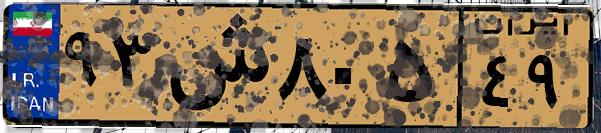0: (330, 28, 385, 110)
3: (110, 28, 158, 98)
4: (475, 38, 525, 113)
5: (385, 28, 445, 110)
8: (270, 28, 330, 110)
9: (57, 26, 110, 100), (525, 38, 570, 115)
ش: (158, 12, 270, 120)
